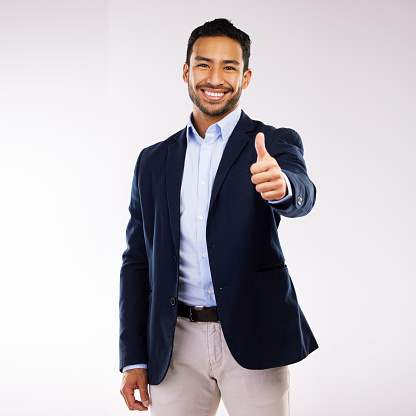ThumbUp: (249, 130, 293, 206)
